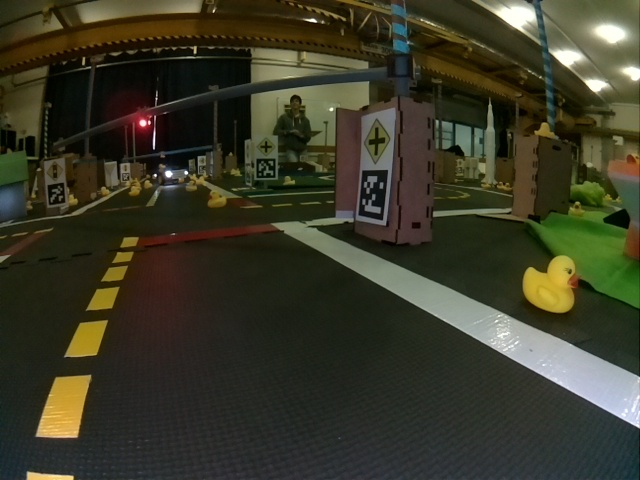Duckie: (523, 256, 580, 313), (208, 191, 226, 208), (535, 122, 554, 136), (570, 201, 582, 214), (284, 177, 294, 186), (144, 181, 153, 190), (186, 181, 194, 190), (100, 187, 108, 196), (68, 195, 77, 203), (132, 187, 139, 196)
Duckiebot: (158, 164, 188, 184)
Intersection sign: (365, 118, 392, 163), (257, 139, 276, 155)
QR code: (357, 168, 390, 220), (256, 159, 276, 179), (47, 183, 65, 205), (121, 172, 131, 182)
Signal sign: (46, 162, 64, 179)
Traffic light: (138, 112, 151, 130)
